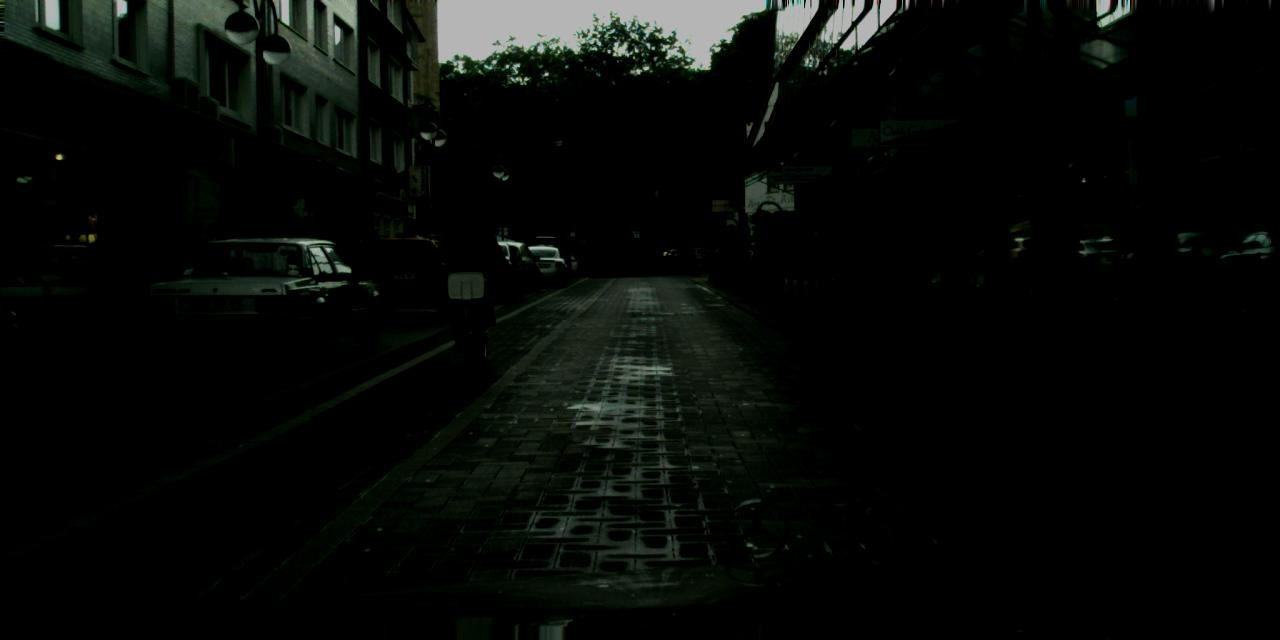ped: (445, 202, 501, 338), (125, 228, 163, 320), (174, 224, 212, 314), (196, 224, 232, 314), (159, 228, 194, 314), (344, 229, 367, 287), (363, 229, 385, 285), (388, 232, 409, 286)
